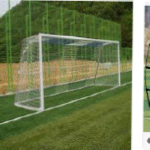goals: (15, 32, 122, 117)
